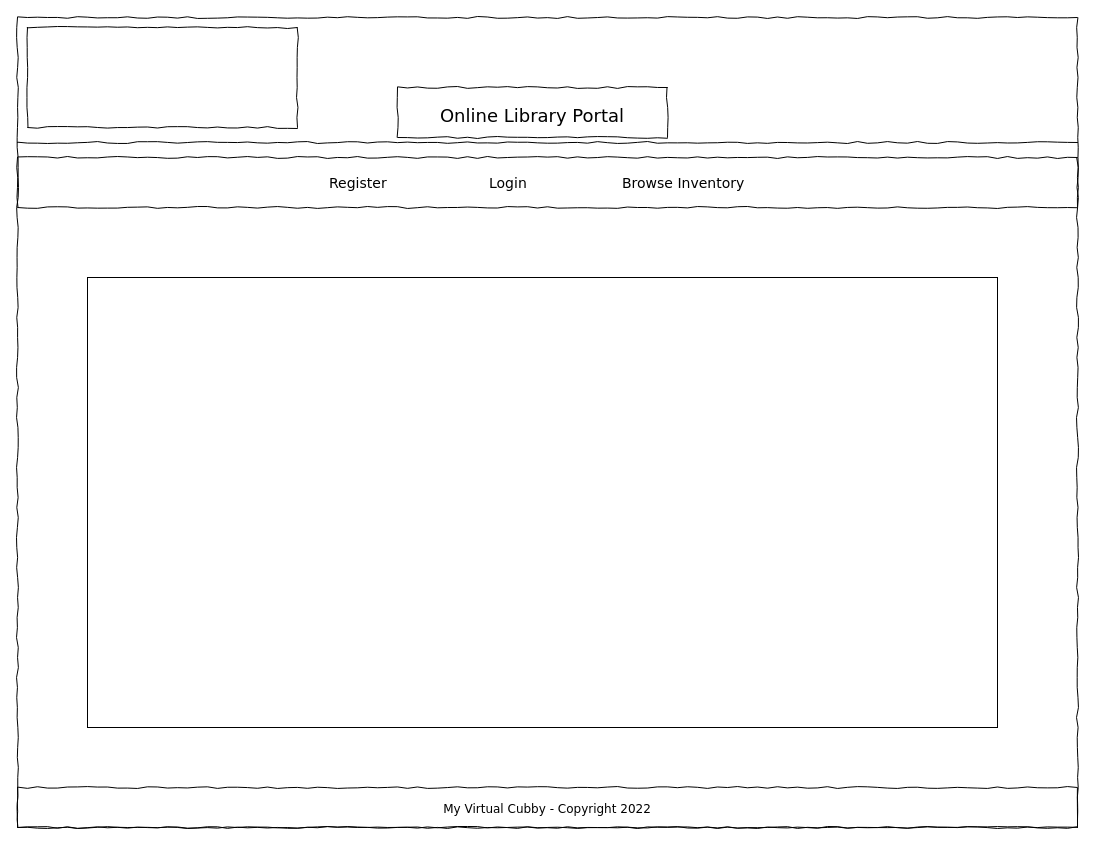
This 1095x845 diagram has some shape labels left out. The shapes that lost their labels are listed below. From the top down, each one's box as (x1, y1, x2, y2) in pixels, then its label:
(26, 26, 298, 128): My Virtual Cubby
(86, 276, 998, 728): Media Image Here
